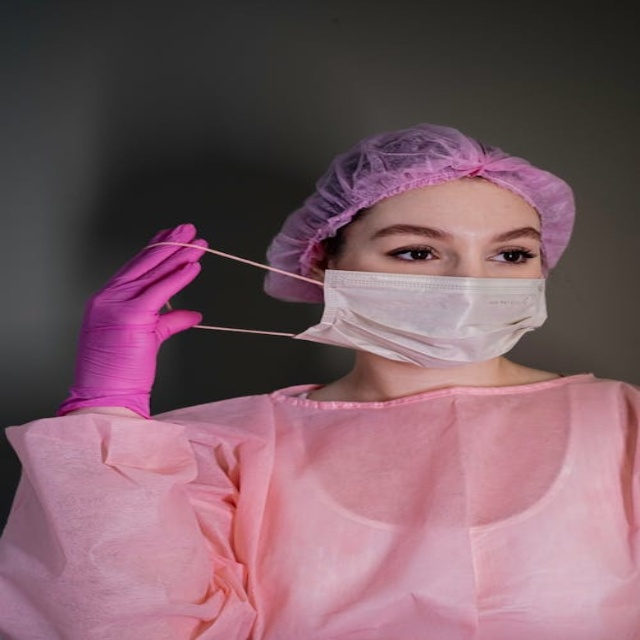Guantes: (57, 222, 210, 419)
Mascara: (293, 267, 550, 367)
Sin_gafas: (361, 219, 544, 269)
